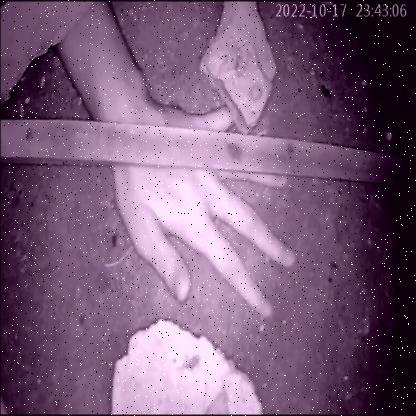hand: (57, 74, 313, 334)
